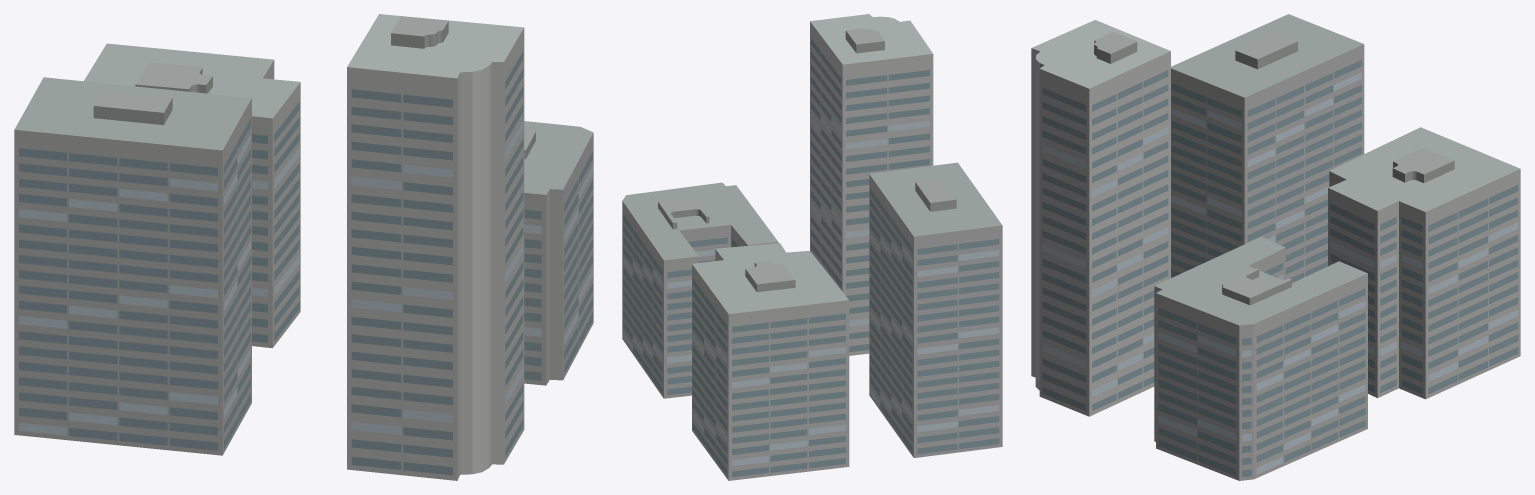
Rendered from apt-a10027089.glb.
The picture shows the model from 3 angles, left to right: view 1: azimuth 30°, elevation 25°; view 2: azimuth 150°, elevation 25°; view 3: azimuth 270°, elevation 25°; orthographic projection. The views are drawn at different scales.
Parts seen in each view (by area): view 1: apt-a10027089; view 2: apt-a10027089; view 3: apt-a10027089.
Boxes of the visible parts, <box> form: apt-a10027089: <box>14,14,593,480</box>; apt-a10027089: <box>622,14,1002,480</box>; apt-a10027089: <box>1031,14,1520,480</box>.
Size of the model in its own units: 112 by 81 by 106.
